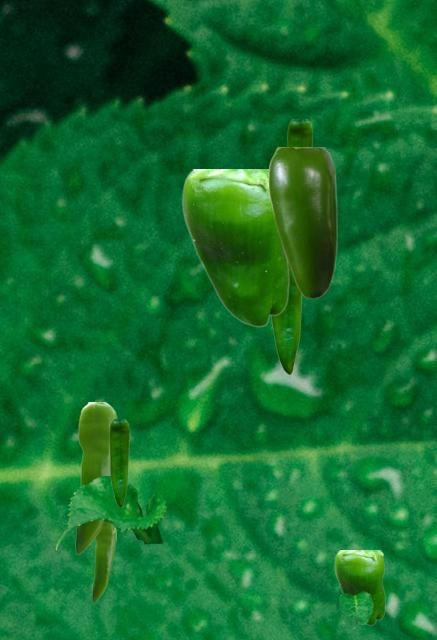green_chili: (181, 169, 288, 326), (269, 147, 336, 298), (75, 402, 117, 553), (334, 550, 384, 624), (271, 269, 302, 373), (92, 522, 115, 601), (109, 419, 128, 506), (287, 119, 311, 146)
